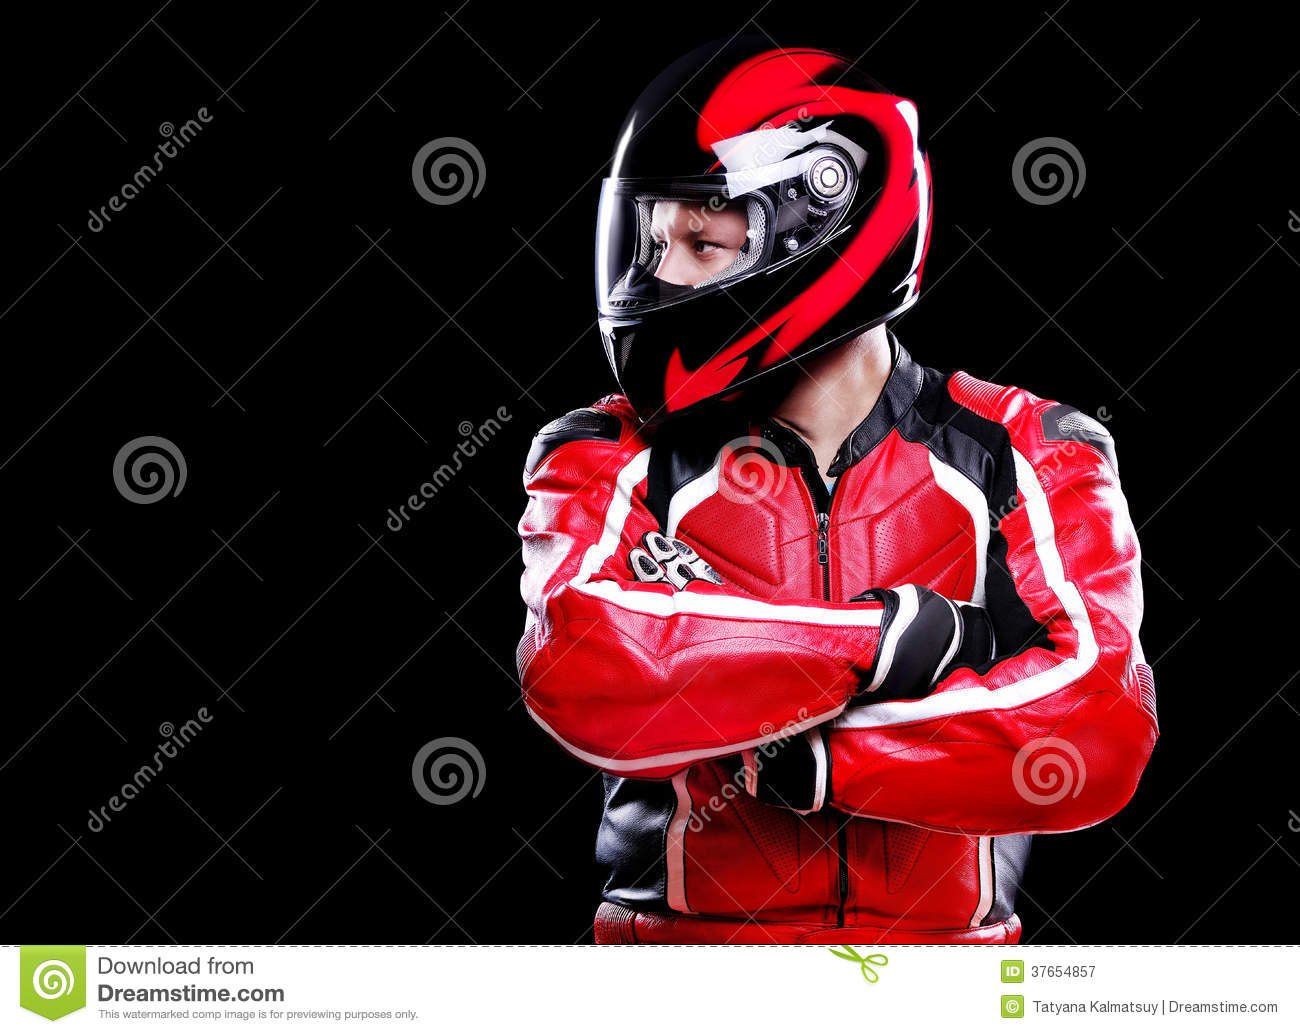helmet: (588, 49, 953, 389)
